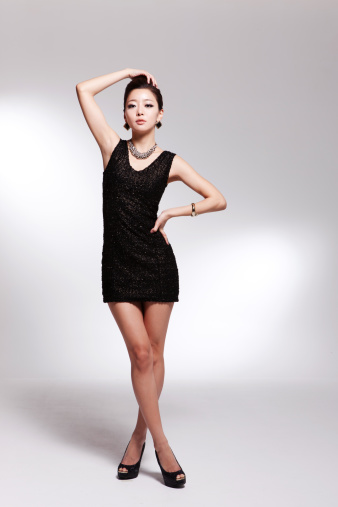em pe: (70, 68, 228, 421)
